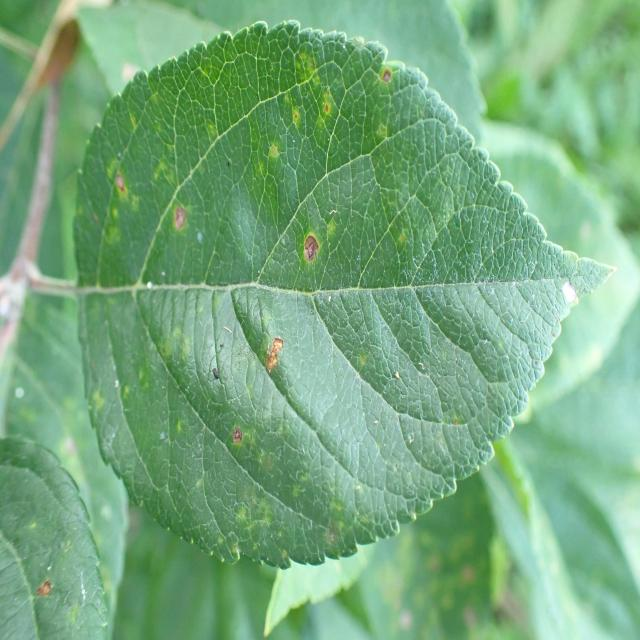frog-eye-leaf-spot: (71, 18, 616, 571), (0, 434, 110, 640)
